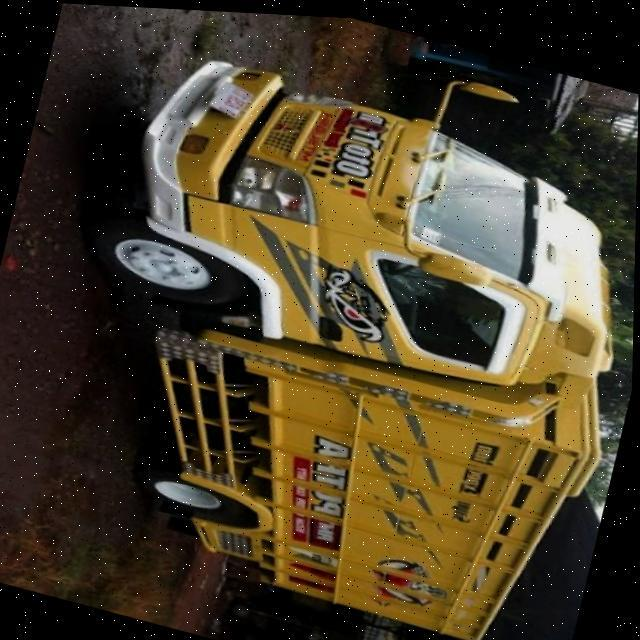truck: (22, 1, 640, 640)
